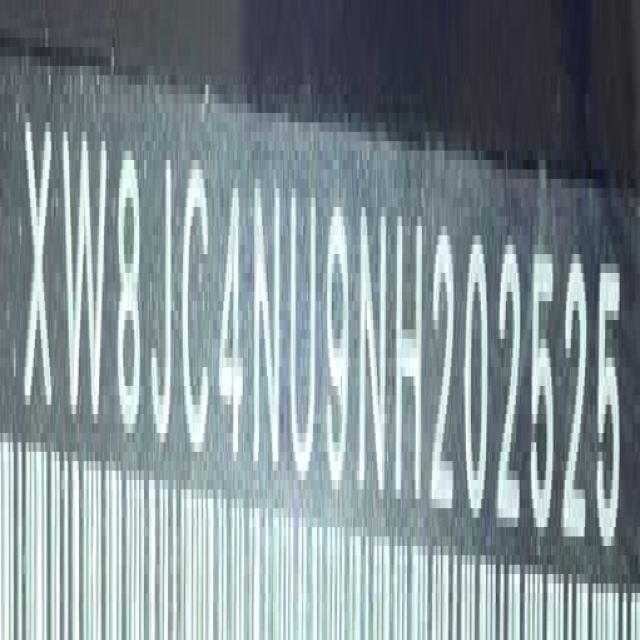0: (462, 232, 488, 536)
2: (431, 224, 457, 525), (563, 249, 588, 551), (500, 237, 525, 538)
4: (216, 166, 246, 481)
5: (530, 237, 556, 542), (599, 256, 624, 563)
8: (116, 138, 142, 443)
9: (326, 196, 349, 504)
C: (180, 154, 212, 469)
H: (396, 207, 426, 515)
J: (148, 136, 174, 467)
N: (253, 173, 283, 486), (360, 198, 387, 513)
U: (290, 181, 318, 492)
W: (62, 117, 108, 441)
X: (23, 99, 55, 426)
